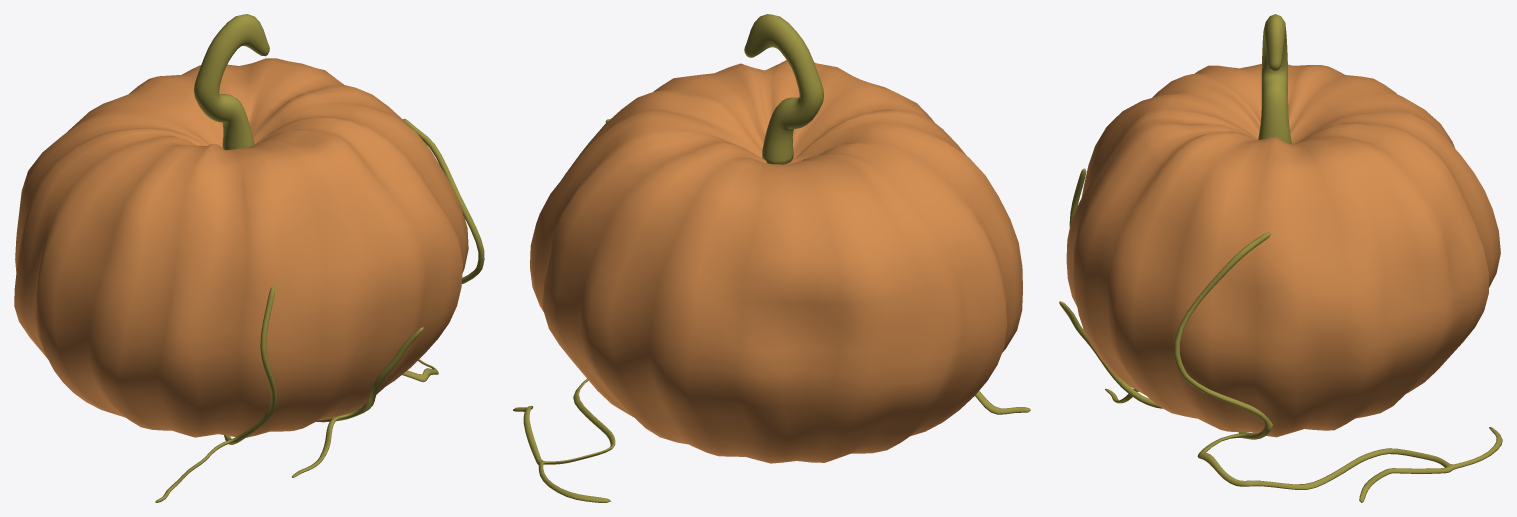
Rendered from kabak-2.fbx.
3 views of the same model, side by side, from view 1: azimuth 30°, elevation 25°; view 2: azimuth 150°, elevation 25°; view 3: azimuth 270°, elevation 25° (orthographic). The views are drawn at different scales.
Visible parts, largest first — view 1: Sphere.028; view 2: Sphere.028; view 3: Sphere.028.
Part boxes in pixels (x1,y1,x2,y2): Sphere.028: (14, 14, 484, 502); Sphere.028: (513, 14, 1030, 502); Sphere.028: (1059, 14, 1502, 502).
Size of the model in its own units: 70.99 by 64.47 by 66.13.
